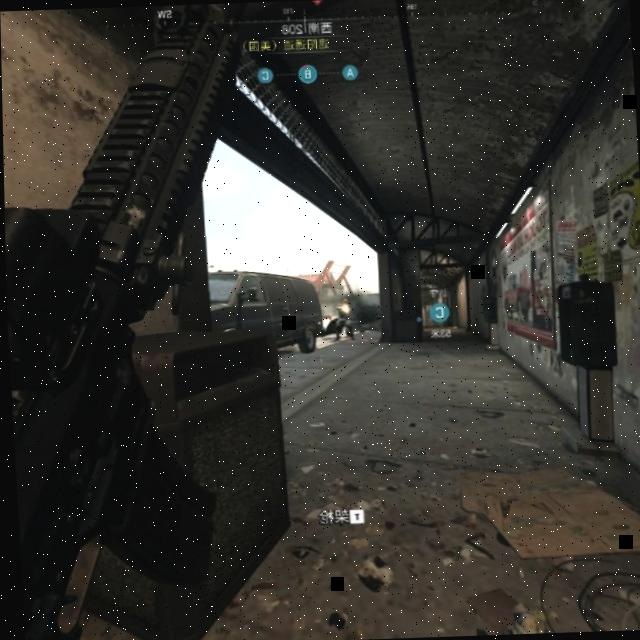MW2_body: (331, 298, 352, 340)
